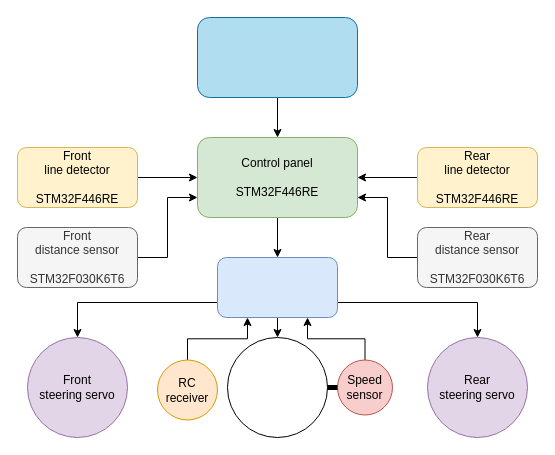
Image size: 555x455. Some labels were removed from this diagram. Each missing label, with the centre of its shape:
"Drive motor" belongs at point (277, 387).
"Monitor app (optional trajectory planner) Raspberry Pi4" belongs at point (277, 57).
"Motor controller STM32F446RE" belongs at point (277, 287).
